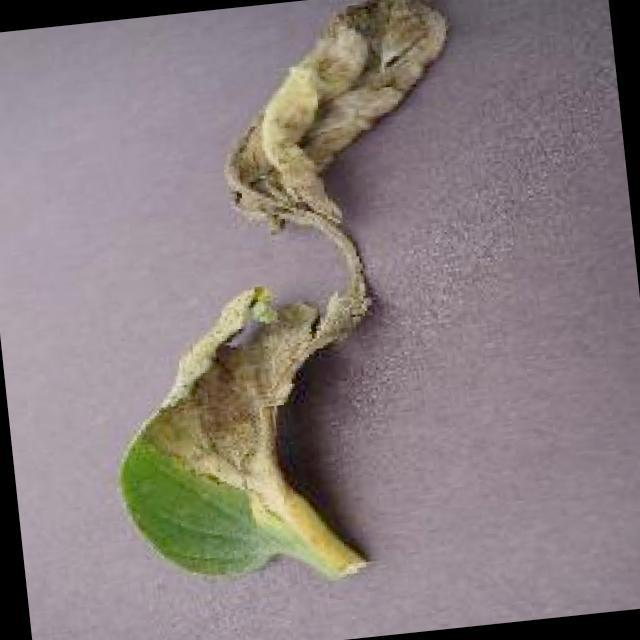Tomato late blight leaf: (71, 0, 500, 591)
